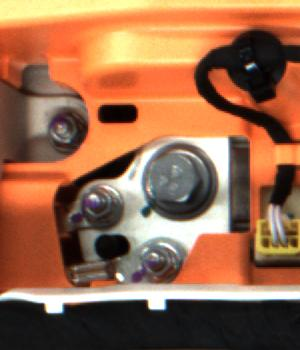nut_b: (140, 143, 222, 218)
screw_s: (77, 183, 122, 227), (134, 242, 185, 280), (44, 110, 84, 149)
